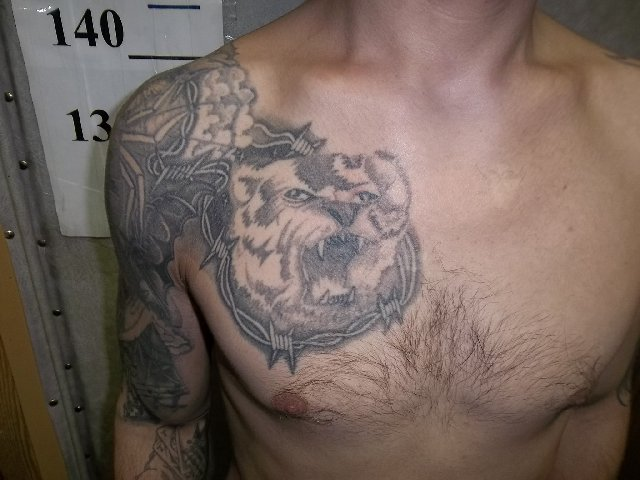tatu5_tigr: (207, 130, 426, 364)
